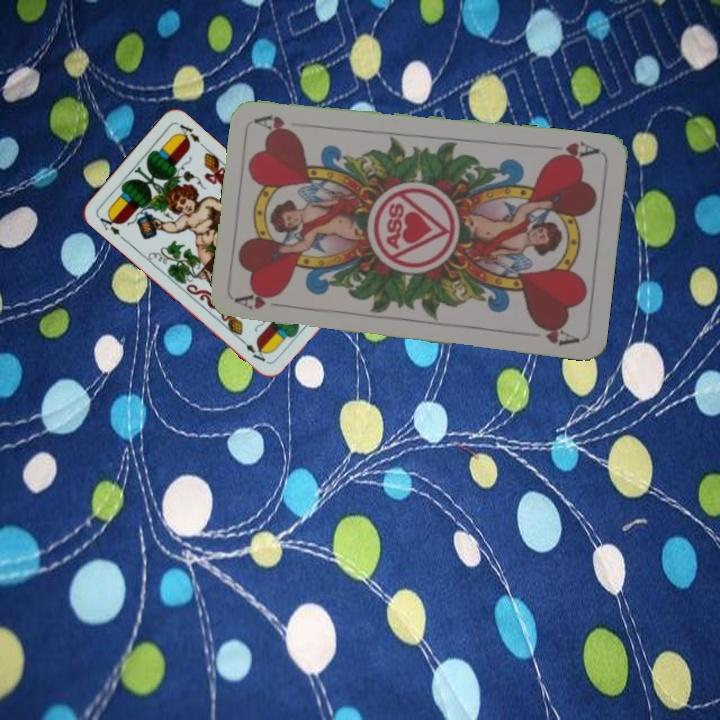EA: (93, 210, 123, 238)
HA: (544, 138, 603, 165), (234, 287, 285, 313)
